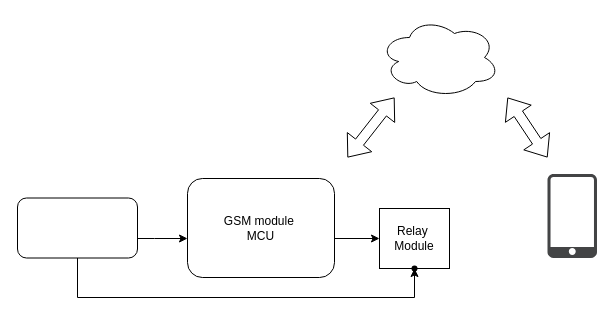
The diagram is 614 pixels wide and 323 high, and some of its shapes have lost their labels. The shapes that lost their labels are listed below. From the top down, each one's centre as x and y in pixels, then its label:
At point 439,57: "Cloud".
At point 77,227: "Power Section with Battery Powered".
